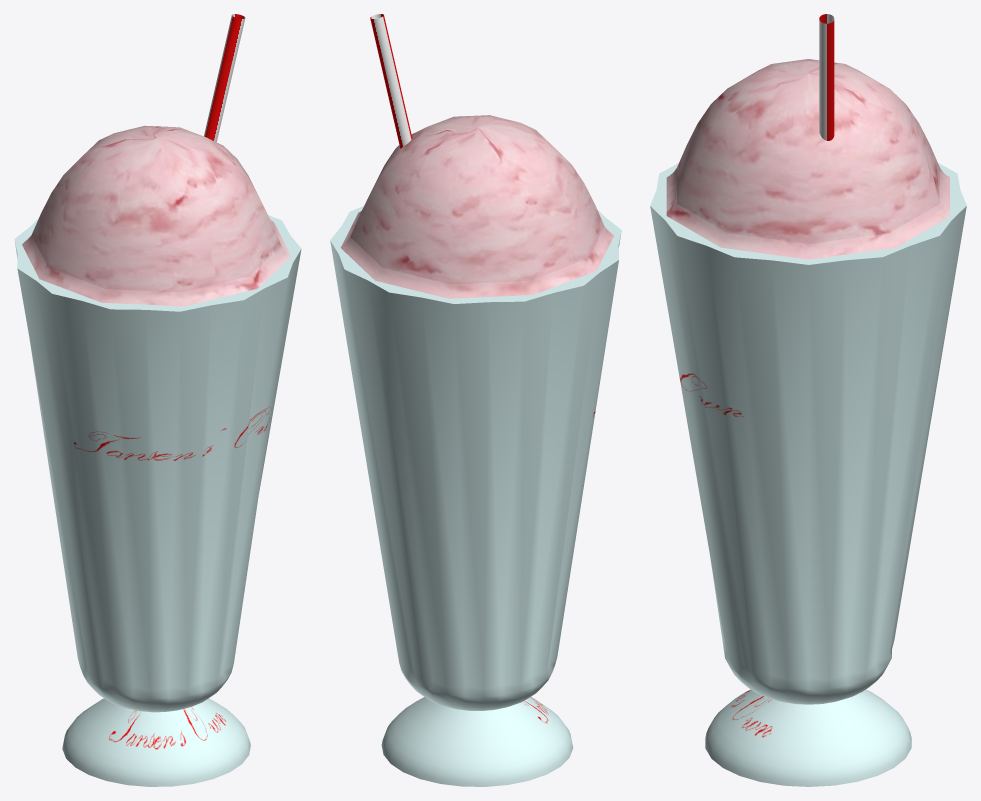
The model's file is milkshake.obj.
3 views of the same model, side by side, from view 1: azimuth 30°, elevation 25°; view 2: azimuth 150°, elevation 25°; view 3: azimuth 270°, elevation 25° (orthographic). The views are drawn at different scales.
Parts seen in each view (by area): view 1: Line001, Line002, Cylinder001; view 2: Line001, Line002, Cylinder001; view 3: Line001, Line002, Cylinder001.
Part boxes in pixels (left/top/right/bottom): Line001: left=14, top=215, right=301, bottom=786; Line002: left=22, top=125, right=290, bottom=306; Cylinder001: left=204, top=14, right=245, bottom=142; Line001: left=330, top=206, right=621, bottom=786; Line002: left=340, top=115, right=613, bottom=298; Cylinder001: left=370, top=14, right=412, bottom=148; Line001: left=650, top=163, right=966, bottom=786; Line002: left=666, top=59, right=949, bottom=259; Cylinder001: left=819, top=14, right=834, bottom=140.
Bounding box in the file's own units: 40.93 × 111 × 41.22.
